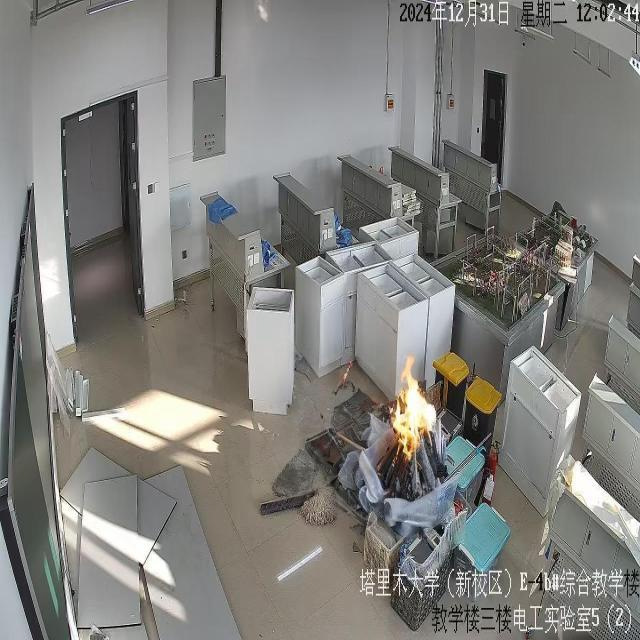smoke: (390, 352, 434, 462), (336, 357, 354, 395)
